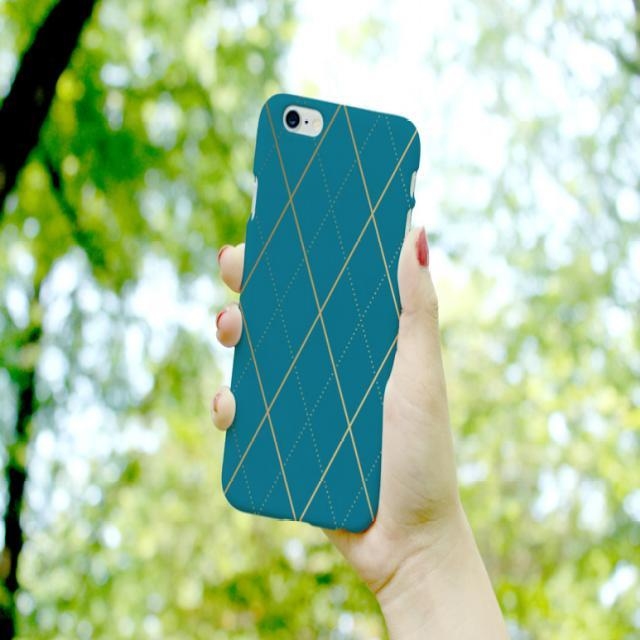phone: (222, 93, 421, 531)
